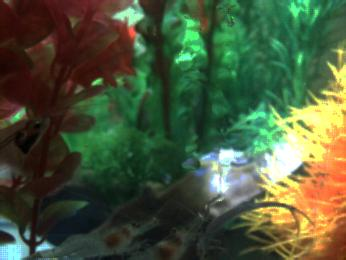glassfish: (193, 196, 313, 260), (1, 114, 57, 174)
siberian prawn: (32, 215, 163, 260), (127, 211, 211, 260)
